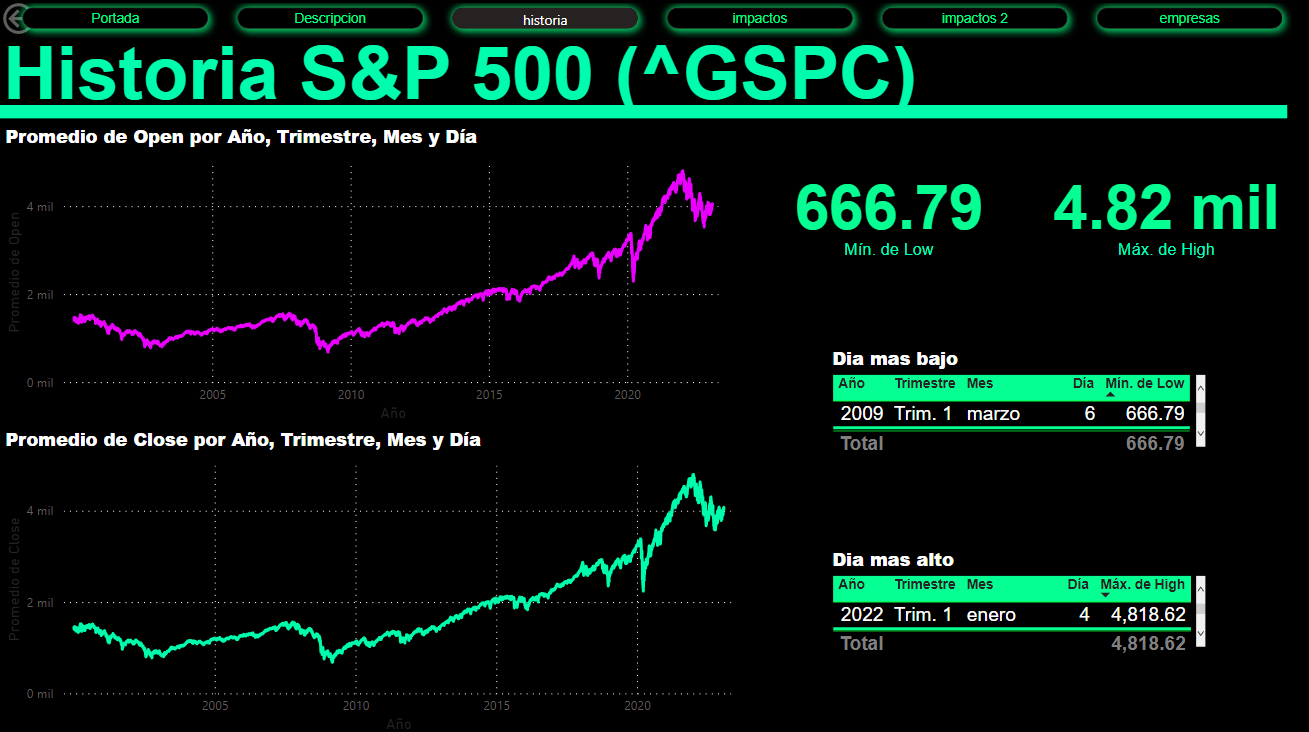

This screenshot's page, from the dashboard's own definition file:
{"tool":"powerbi","page":{"name":"historia","canvas":[1280,720],"ordinal":2},"visuals":[{"type":"lineChart","fields":{"Category":["historia_gspc.Date.Variación.Jerarquía de fechas.Año","historia_gspc.Date.Variación.Jerarquía de fechas.Trimestre","historia_gspc.Date.Variación.Jerarquía de fechas.Mes","historia_gspc.Date.Variación.Jerarquía de fechas.Día"],"Y":["Avg(historia_gspc.Open)"]},"box":[1.9,121.6,711,294.7],"z":0},{"type":"textbox","box":[0,27.2,1037.8,110.9],"z":1000},{"type":"shape","box":[1.9,104.1,1251.8,12.6],"z":2000},{"type":"lineChart","fields":{"Category":["historia_gspc.Date.Variación.Jerarquía de fechas.Año","historia_gspc.Date.Variación.Jerarquía de fechas.Trimestre","historia_gspc.Date.Variación.Jerarquía de fechas.Mes","historia_gspc.Date.Variación.Jerarquía de fechas.Día"],"Y":["Avg(historia_gspc.Close)"]},"box":[1.9,416.3,721.7,303.5],"z":3000},{"type":"card","fields":{"Values":["Min(historia_gspc.Low)"]},"box":[740.2,110.9,252.9,192.6],"z":4000},{"type":"card","fields":{"Values":["Max(historia_gspc.High)"]},"box":[993.1,110.9,286.9,192.6],"z":5000},{"type":"actionButton","box":[0,0,100,40],"z":6000},{"type":"tableEx","title":"Dia mas bajo","fields":{"Values":["historia_gspc.Date.Variación.Jerarquía de fechas.Año","historia_gspc.Date.Variación.Jerarquía de fechas.Trimestre","historia_gspc.Date.Variación.Jerarquía de fechas.Mes","historia_gspc.Date.Variación.Jerarquía de fechas.Día","Min(historia_gspc.Low)"]},"box":[806.3,337.5,373.5,112.8],"z":7000},{"type":"tableEx","title":"Dia mas alto","fields":{"Values":["historia_gspc.Date.Variación.Jerarquía de fechas.Año","historia_gspc.Date.Variación.Jerarquía de fechas.Trimestre","historia_gspc.Date.Variación.Jerarquía de fechas.Mes","historia_gspc.Date.Variación.Jerarquía de fechas.Día","Max(historia_gspc.High)"]},"box":[806.3,533,373.5,111.9],"z":8000},{"type":"pageNavigator","box":[14.6,0,1249.8,39.9],"z":9000}]}

Visuals, with their boxes in screenshot pixels (x1, y1, x2, y2), scaled from the page's 1280x720 canvas onto the 1309x732 screenshot:
lineChart - historia_gspc.Date.Variación.Jerarquía de fechas.Año x historia_gspc.Date.Variación.Jerarquía de fechas.Trimestre: [2,124,729,423]
textbox: [0,28,1061,140]
shape: [2,106,1282,119]
lineChart - historia_gspc.Date.Variación.Jerarquía de fechas.Año x historia_gspc.Date.Variación.Jerarquía de fechas.Trimestre: [2,423,740,731]
card - Min(historia_gspc.Low): [757,113,1016,309]
card - Max(historia_gspc.High): [1016,113,1308,309]
actionButton: [0,0,102,41]
"Dia mas bajo" tableEx: [825,343,1207,458]
"Dia mas alto" tableEx: [825,542,1207,656]
pageNavigator: [15,0,1293,41]
